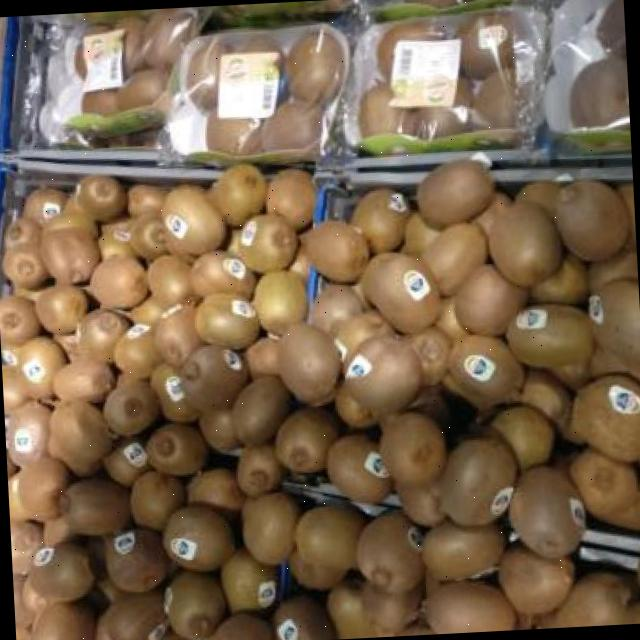kiwi: (509, 467, 585, 556), (440, 437, 516, 525), (360, 253, 441, 333), (488, 201, 562, 287), (554, 180, 630, 260), (345, 336, 421, 411), (573, 374, 640, 459), (506, 303, 593, 367), (358, 511, 425, 591), (455, 263, 529, 335), (499, 544, 575, 613), (417, 160, 495, 226), (542, 571, 632, 628), (380, 411, 446, 487), (447, 334, 523, 399), (423, 520, 505, 579), (569, 447, 638, 517), (280, 323, 340, 403), (426, 581, 516, 634), (423, 222, 488, 295), (179, 344, 248, 411), (163, 504, 233, 570), (295, 506, 366, 569), (162, 185, 226, 254), (241, 491, 301, 564), (588, 278, 640, 361), (275, 406, 339, 472), (329, 435, 392, 502), (302, 221, 370, 282), (164, 571, 225, 639), (232, 375, 292, 444), (105, 528, 168, 592), (491, 405, 554, 468), (350, 187, 410, 253), (61, 477, 131, 533), (29, 541, 95, 600), (50, 401, 113, 462), (195, 292, 260, 348), (238, 213, 299, 272), (221, 548, 277, 612), (253, 269, 308, 333), (211, 164, 267, 225), (146, 422, 208, 475), (153, 302, 204, 366), (104, 589, 166, 640), (103, 380, 160, 435), (42, 228, 99, 283), (130, 472, 184, 530), (190, 250, 256, 297), (266, 168, 316, 230), (89, 254, 147, 307), (530, 253, 589, 304), (334, 310, 394, 360), (381, 385, 449, 429), (362, 582, 422, 631), (19, 457, 68, 517), (17, 337, 66, 397), (151, 362, 199, 421), (518, 369, 571, 422), (273, 595, 335, 640), (76, 310, 129, 362), (9, 400, 50, 465), (310, 284, 364, 333), (53, 359, 114, 402), (236, 443, 285, 496), (114, 323, 161, 378), (35, 284, 88, 332), (327, 580, 369, 639), (32, 601, 95, 640), (187, 468, 245, 510), (411, 325, 451, 385), (147, 254, 192, 305), (289, 550, 347, 589), (49, 431, 100, 475), (77, 176, 126, 221), (395, 482, 445, 526), (588, 249, 638, 293), (3, 243, 49, 289), (104, 440, 149, 487), (588, 344, 640, 380), (199, 409, 241, 453), (13, 575, 49, 626), (10, 520, 44, 573), (49, 212, 99, 248), (0, 299, 40, 344), (336, 384, 378, 426), (209, 613, 273, 640), (129, 216, 168, 259), (474, 192, 512, 235), (515, 180, 561, 215), (405, 211, 441, 255), (23, 188, 68, 223), (244, 336, 280, 379), (160, 223, 197, 263), (101, 217, 136, 259), (435, 295, 468, 339), (127, 184, 169, 217), (617, 182, 637, 247), (548, 360, 590, 389), (8, 466, 30, 518), (3, 367, 28, 411), (5, 217, 40, 247), (130, 295, 163, 325), (556, 408, 584, 443), (601, 505, 640, 529), (464, 353, 496, 382), (44, 516, 74, 544), (53, 334, 78, 361), (98, 576, 123, 602), (290, 247, 310, 279), (398, 620, 435, 636), (96, 614, 117, 640), (368, 621, 397, 638), (117, 372, 147, 387), (226, 228, 241, 257), (515, 613, 538, 630), (625, 601, 640, 624), (64, 193, 82, 212), (160, 631, 190, 640), (7, 452, 17, 478), (16, 627, 32, 640)
